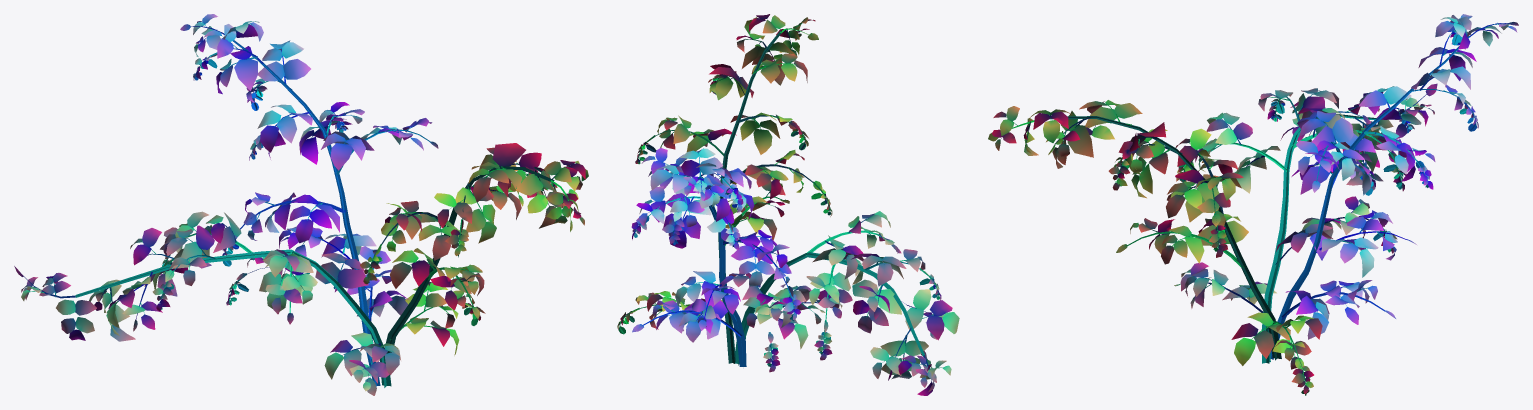
The model's file is Raspberry_wf0oefeja_High_wf0oefeja_VarE_LOD1.fbx.
The picture shows the model from 3 angles, left to right: view 1: azimuth 30°, elevation 25°; view 2: azimuth 150°, elevation 25°; view 3: azimuth 270°, elevation 25°; orthographic projection. The views are drawn at different scales.
Parts seen in each view (by area): view 1: _cr4c_VarE_LOD2; view 2: _cr4c_VarE_LOD2; view 3: _cr4c_VarE_LOD2.
Part boxes in pixels (x1,y1,x2,y2): _cr4c_VarE_LOD2: (14,14,588,395); _cr4c_VarE_LOD2: (617,14,959,395); _cr4c_VarE_LOD2: (988,14,1518,395).
Bounding box in the file's own units: 114 × 78.84 × 119.
